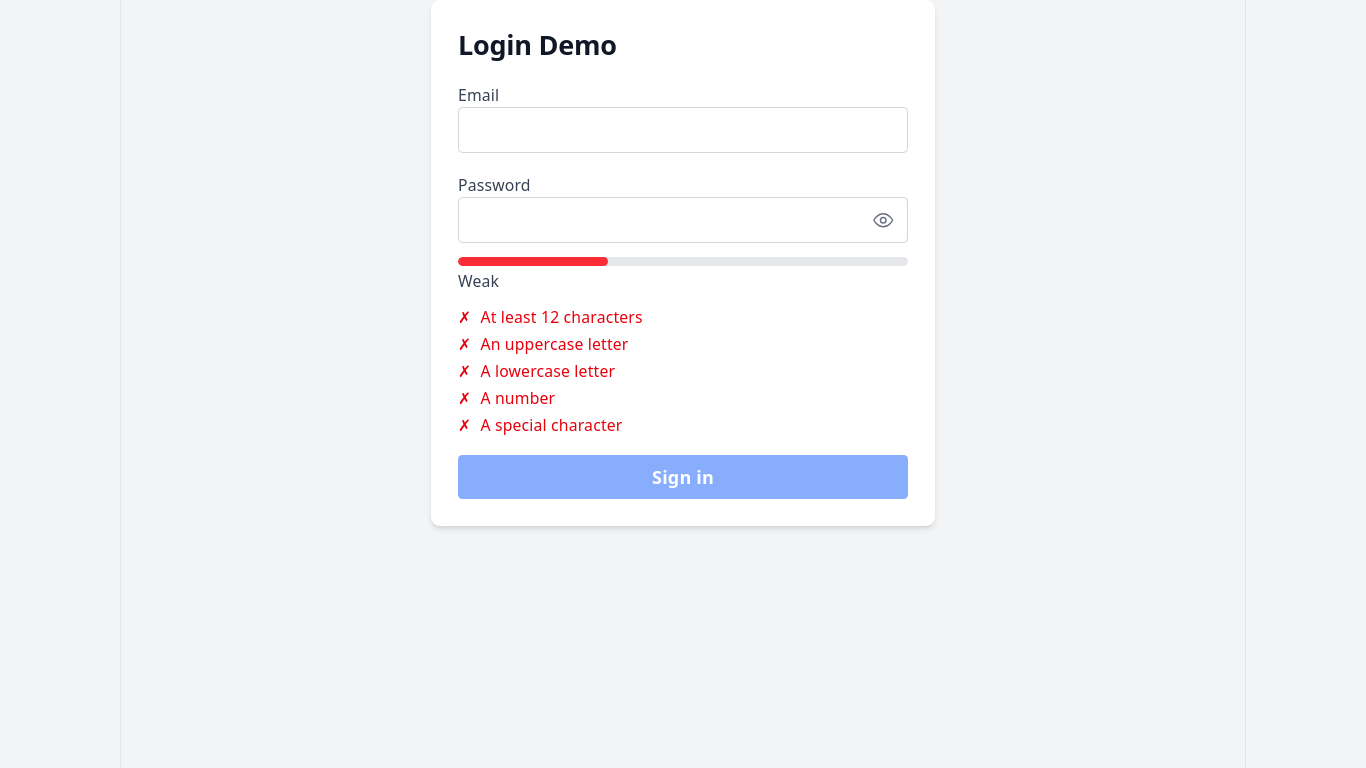
LoginDemo › email validation on blur › shows a red outline and a message when the email is empty on blur
Click the field labelled "Email": (683, 130) top-left (458, 107), bottom-right (908, 153)
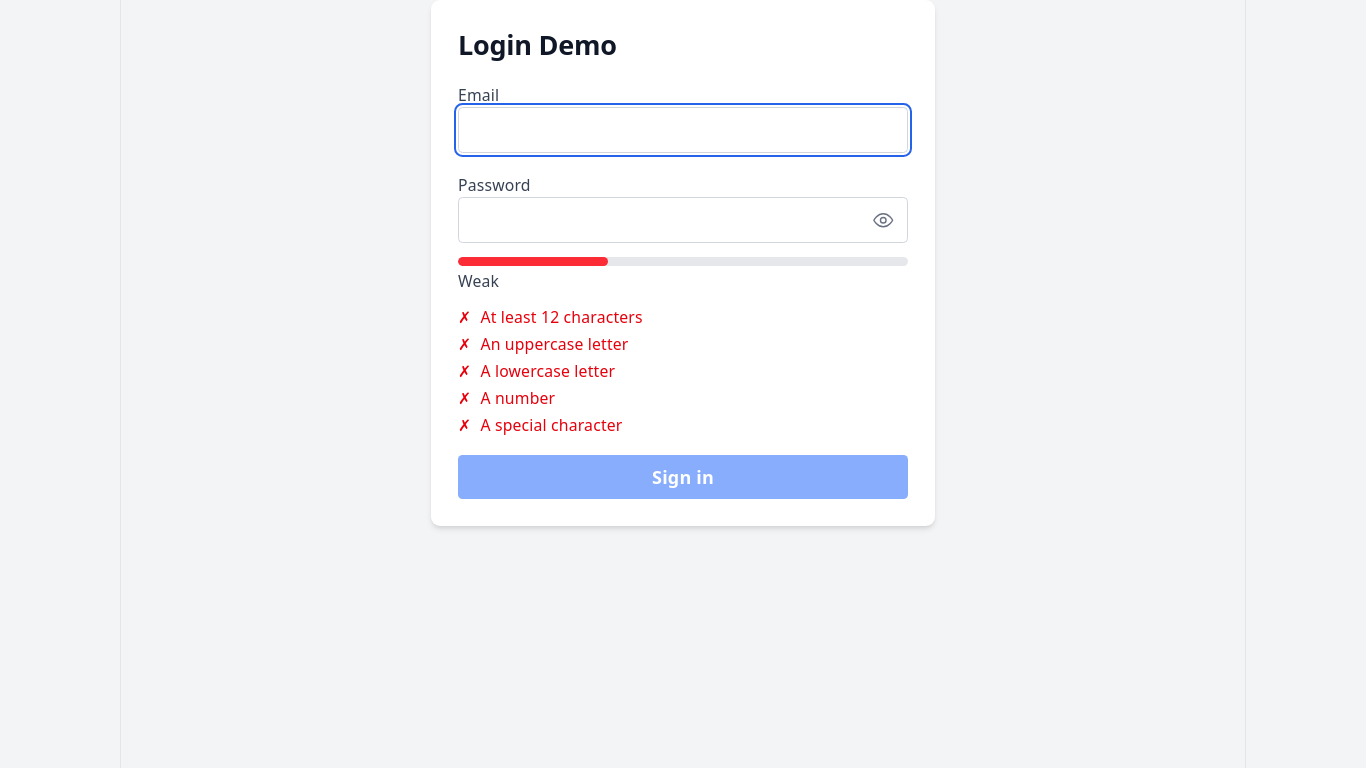
Press Tab
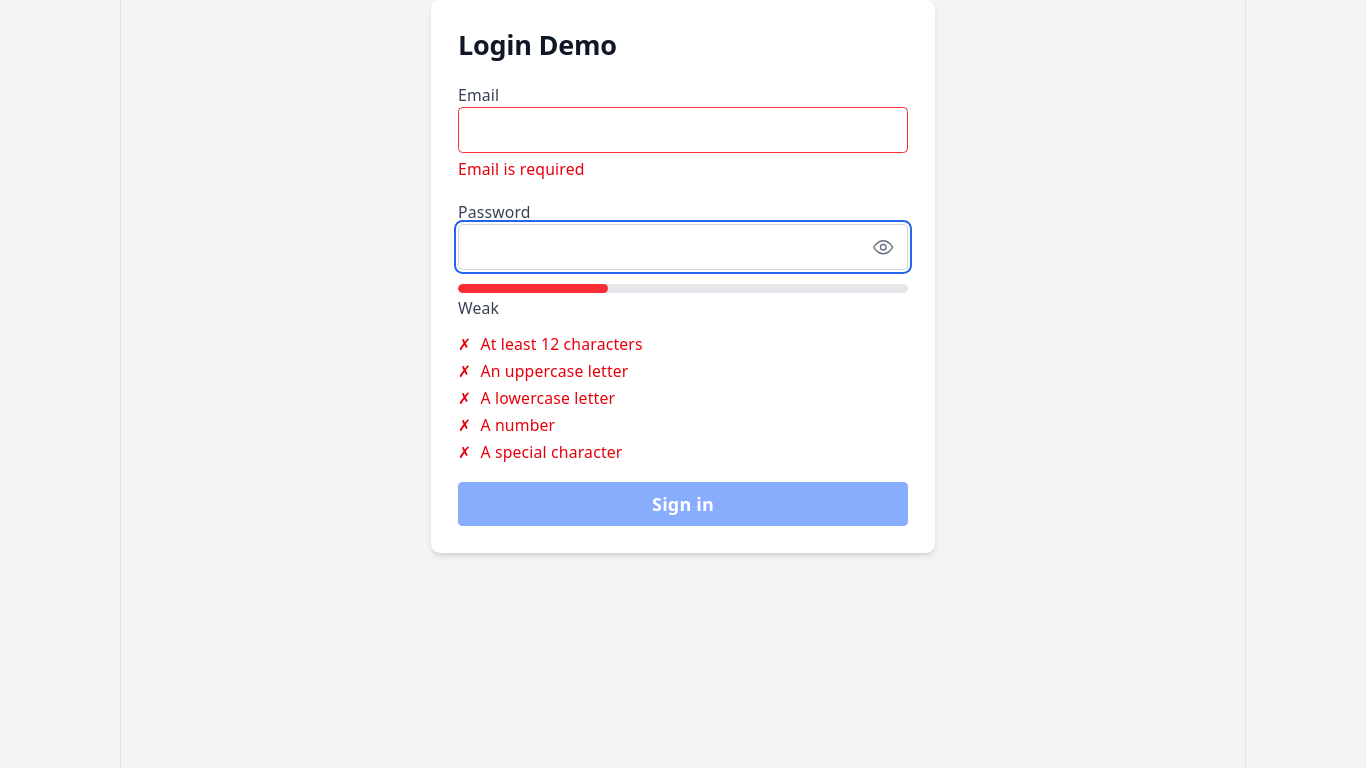
Expected: the text "Email is required" is shown, top-left (458, 158), bottom-right (585, 180)
